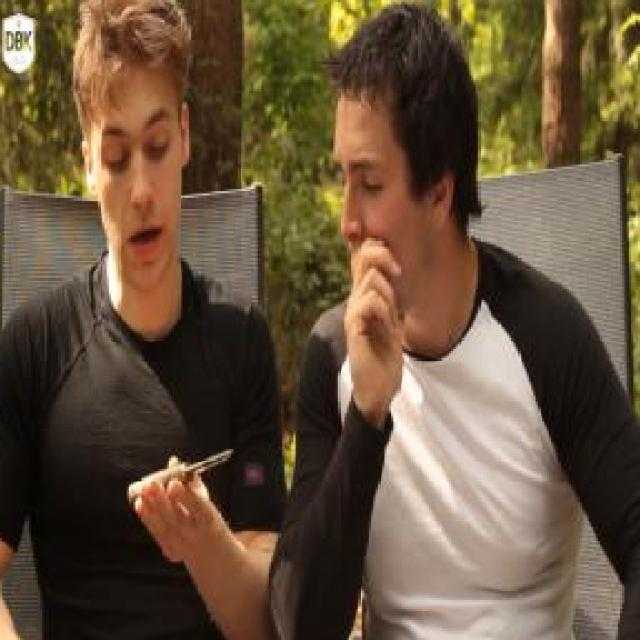knife: (122, 427, 247, 523)
